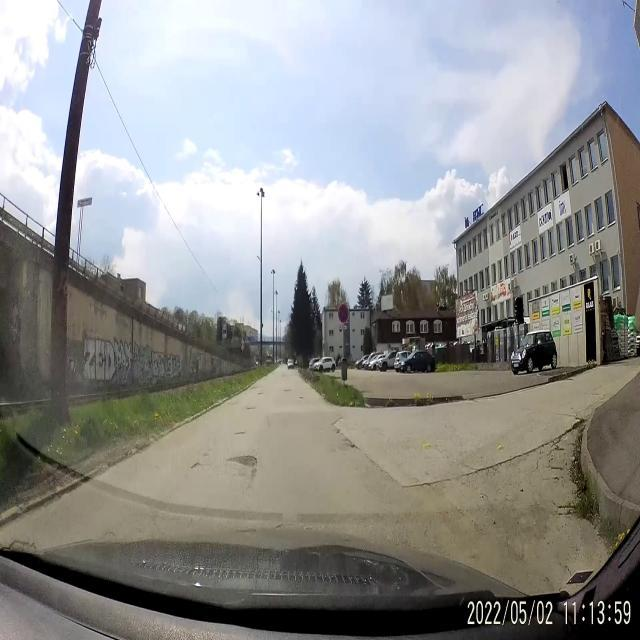Pothole: (332, 410, 360, 460), (225, 450, 262, 482), (188, 452, 204, 478), (232, 422, 248, 442), (242, 400, 257, 420), (258, 388, 268, 400)
